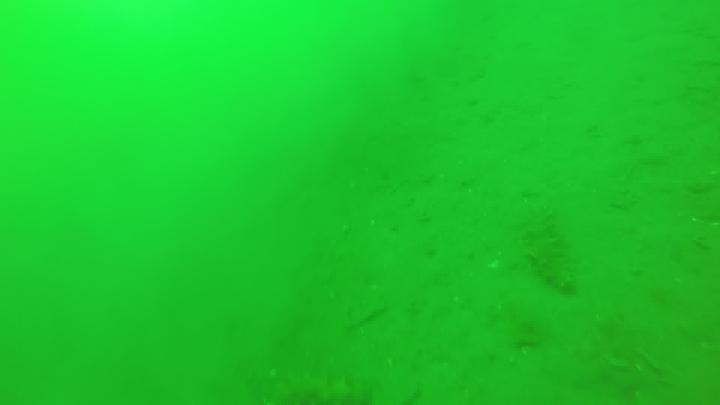holothurian: (523, 204, 582, 299), (267, 372, 372, 405)
